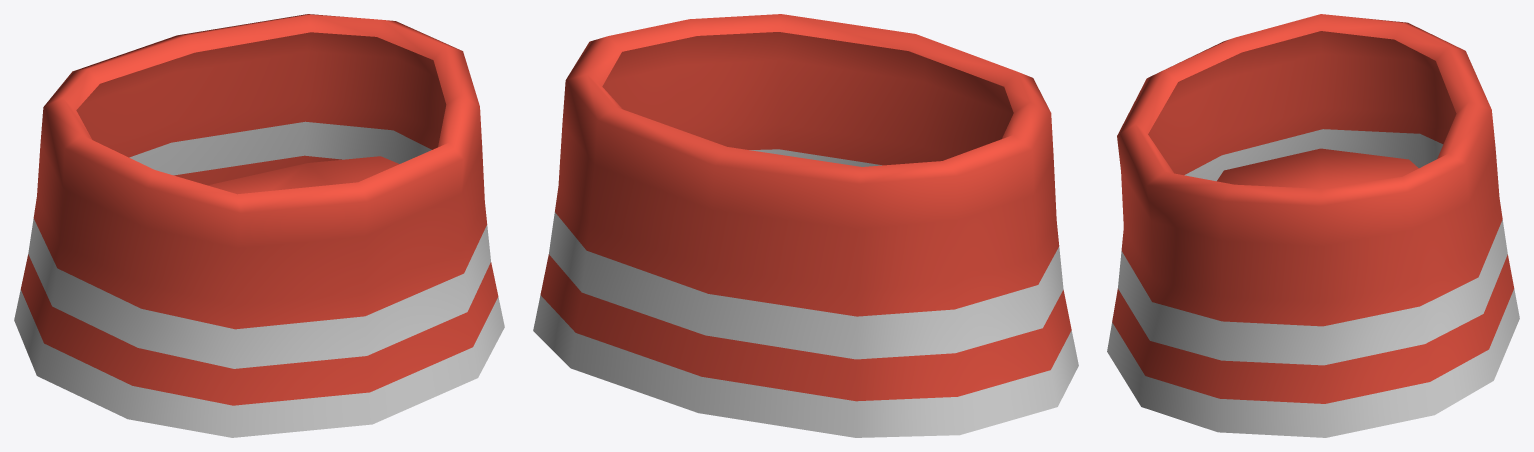
File: Bottom_05_Fit.fbx
The picture shows the model from 3 angles, left to right: view 1: azimuth 30°, elevation 25°; view 2: azimuth 150°, elevation 25°; view 3: azimuth 270°, elevation 25°; orthographic projection. The views are drawn at different scales.
Visible parts, largest first — view 1: Bottom_05_Fit; view 2: Bottom_05_Fit; view 3: Bottom_05_Fit.
Part boxes in pixels (left/top/right/bottom): Bottom_05_Fit: left=14, top=14, right=504, bottom=437; Bottom_05_Fit: left=533, top=14, right=1078, bottom=437; Bottom_05_Fit: left=1107, top=14, right=1519, bottom=437.
Bounding box in the file's own units: 43.31 × 23.57 × 35.06.
